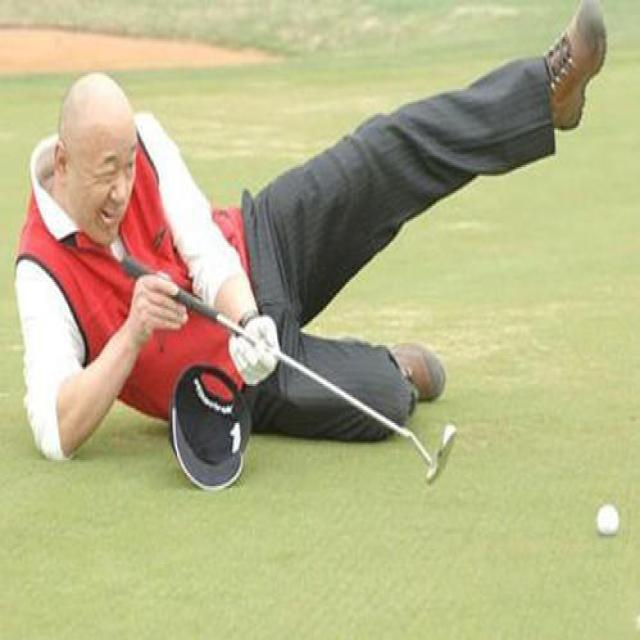down: (4, 0, 613, 466)
